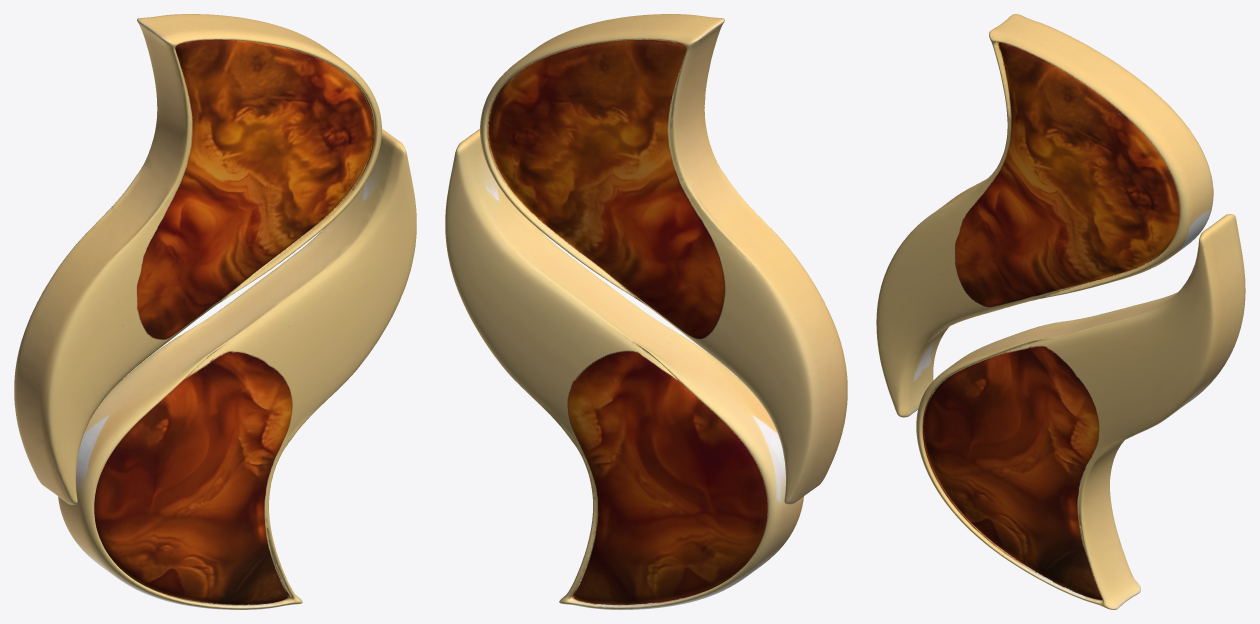
The model's file is opt_Golden_Ember_0506235551.glb.
3 renders of one model, left to right at view 1: azimuth 30°, elevation 25°; view 2: azimuth 150°, elevation 25°; view 3: azimuth 330°, elevation 25°, orthographic. The views are drawn at different scales.
Bounding box in the file's own units: 1.24 × 1.9 × 0.2163.
1 material, 1 textured.
